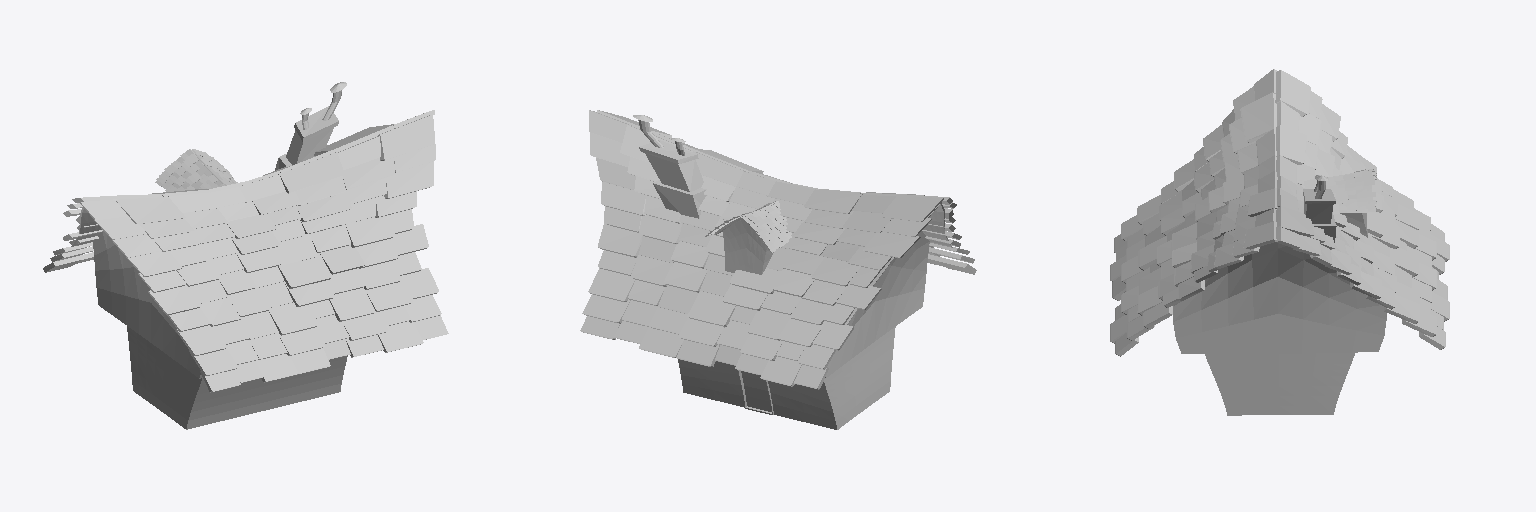
The model's file is FantasyHouse1.obj.
The picture shows the model from 3 angles: view 1: azimuth 30°, elevation 25°; view 2: azimuth 150°, elevation 25°; view 3: azimuth 270°, elevation 25°; orthographic projection.
Visible parts, largest first — view 1: Cube.022_Cube.264, Cube_Cube.011, Cube.011_Cube.000, Cube.001_Cube.012, Cube.013_Cube.005, Cube.012_Cube.003; view 2: Cube.011_Cube.000, Cube_Cube.011, Cube.001_Cube.012, Cube.022_Cube.264, Cube.002_Cube.013, Cube.013_Cube.005; view 3: Cube_Cube.011, Cube.022_Cube.264, Cube.011_Cube.000, Cube.012_Cube.003, Cube.001_Cube.012.
Boxes of the visible parts, <box> form: Cube.022_Cube.264: <box>79,115,448,392</box>; Cube_Cube.011: <box>71,208,347,429</box>; Cube.011_Cube.000: <box>43,110,434,272</box>; Cube.001_Cube.012: <box>275,106,338,170</box>; Cube.013_Cube.005: <box>155,149,224,191</box>; Cube.012_Cube.003: <box>192,149,237,185</box>; Cube.011_Cube.000: <box>580,110,943,389</box>; Cube_Cube.011: <box>678,202,952,429</box>; Cube.001_Cube.012: <box>639,140,706,218</box>; Cube.022_Cube.264: <box>597,110,976,274</box>; Cube.002_Cube.013: <box>715,201,777,274</box>; Cube.013_Cube.005: <box>740,201,791,252</box>; Cube_Cube.011: <box>1173,242,1386,415</box>; Cube.022_Cube.264: <box>1110,69,1277,356</box>; Cube.011_Cube.000: <box>1275,70,1449,349</box>; Cube.012_Cube.003: <box>1298,170,1376,213</box>; Cube.001_Cube.012: <box>1303,189,1336,242</box>.
Bounding box in the file's own units: 6.92 × 4.85 × 5.69.